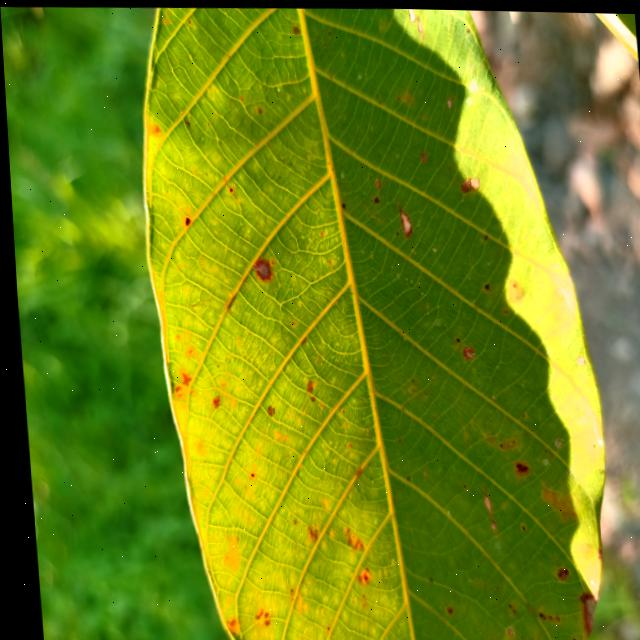Colletotrichum: (250, 255, 268, 279)
Leaf-Blight: (575, 590, 593, 629)
